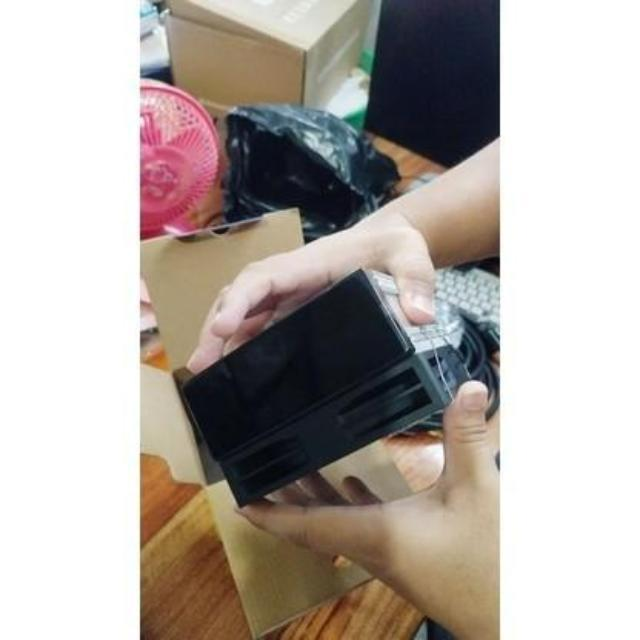CPU_Fan: (190, 264, 462, 512)
